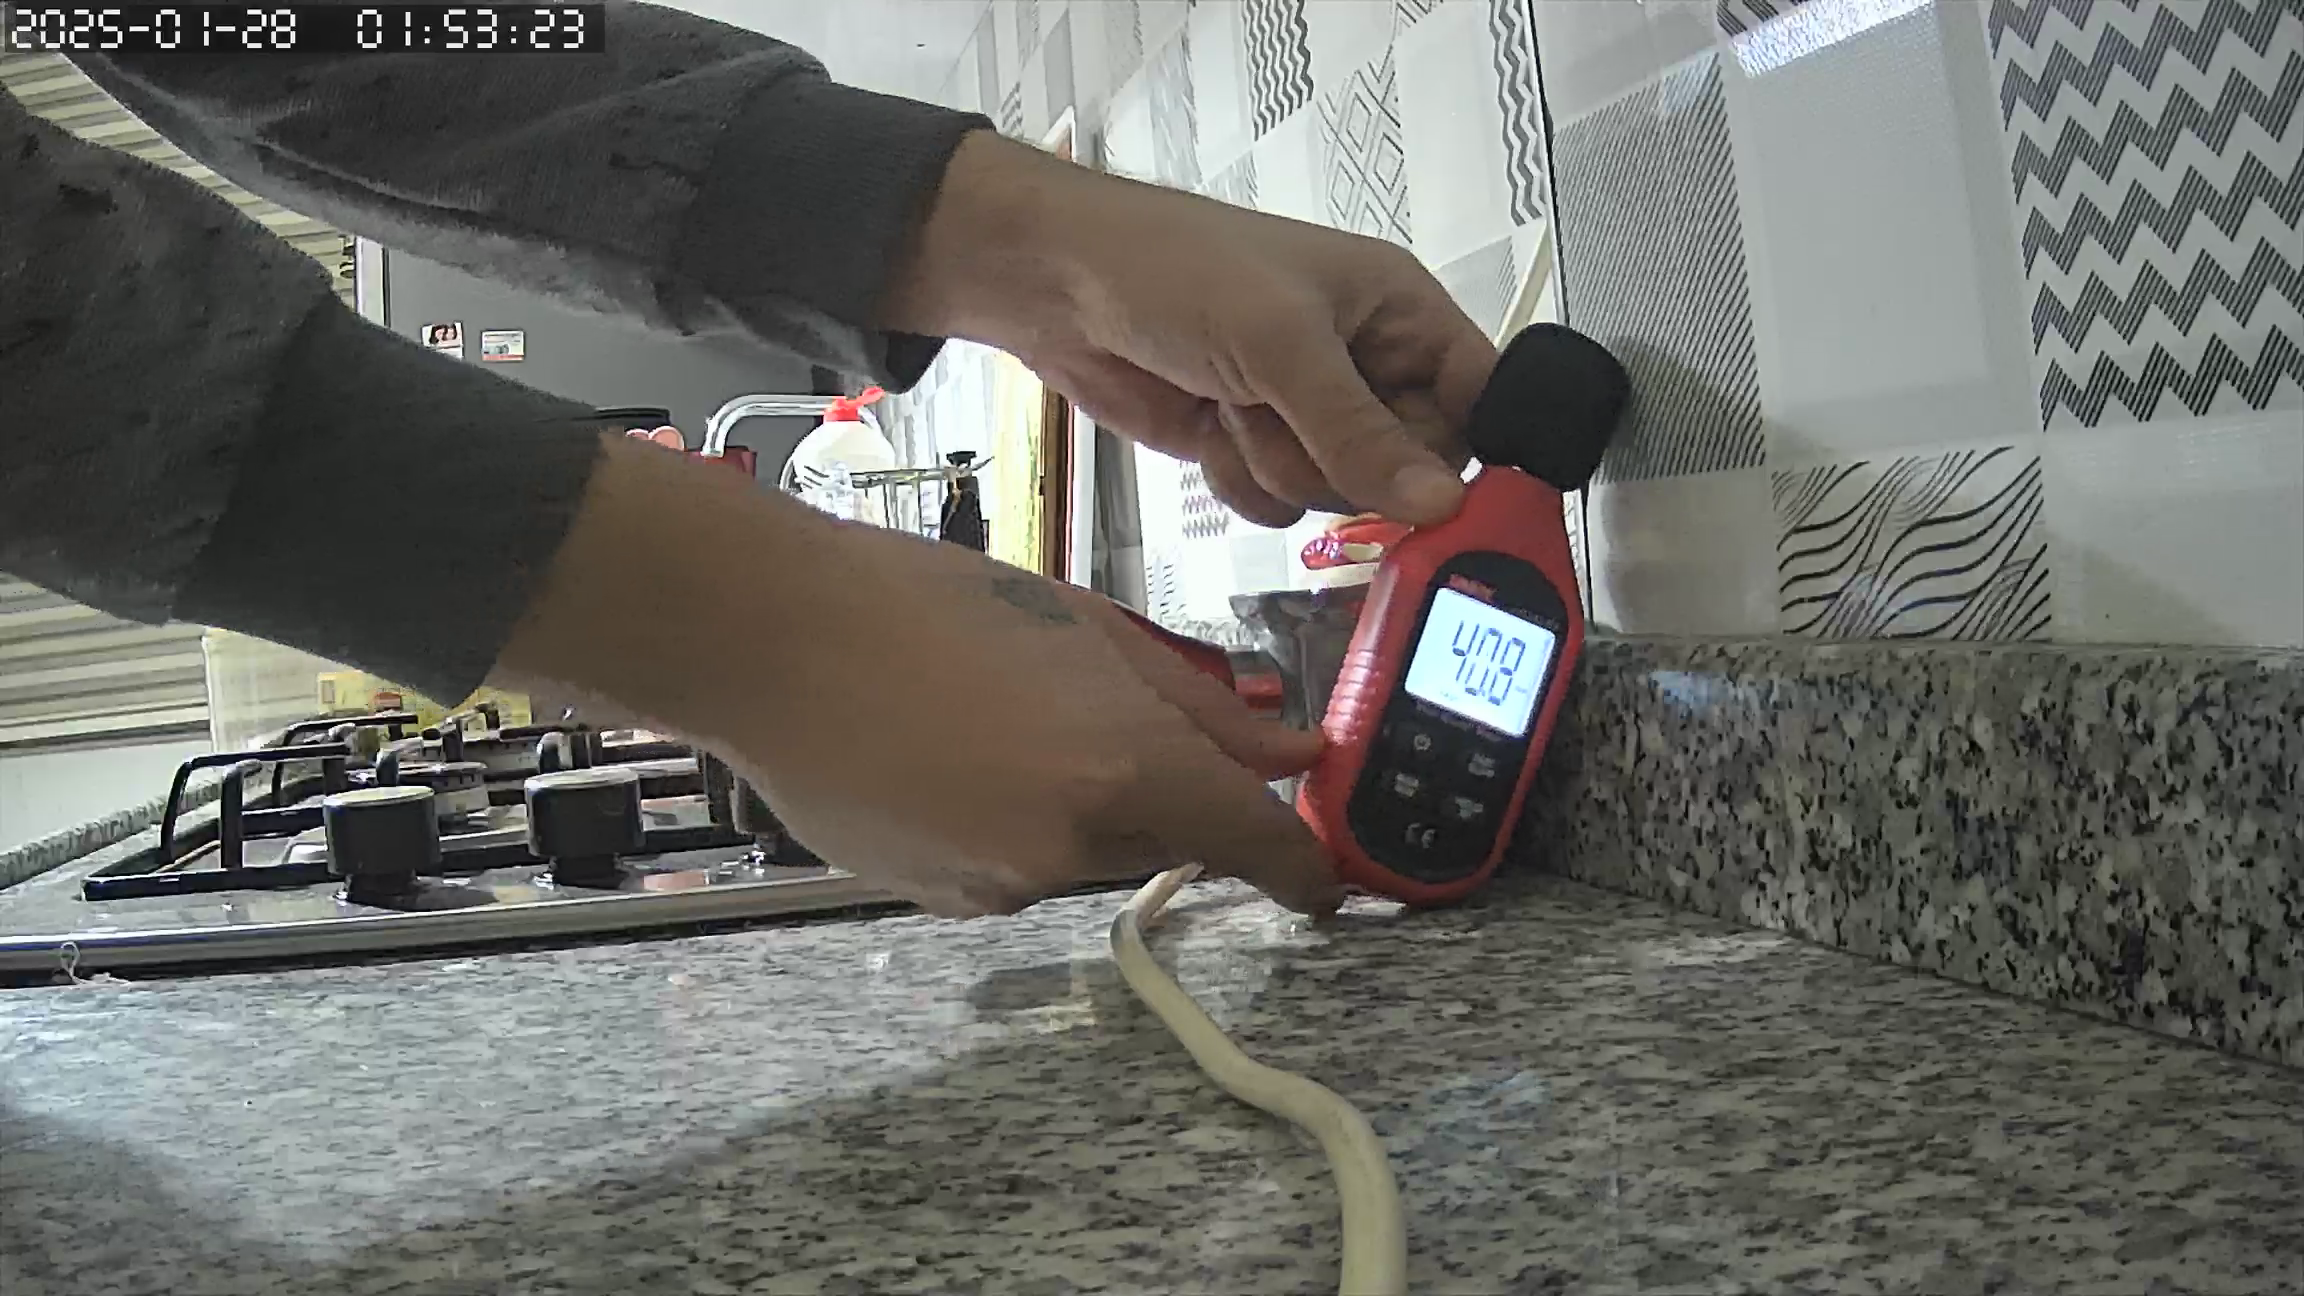screen: (1402, 589, 1554, 742)
